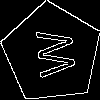W: (27, 28, 76, 80)
